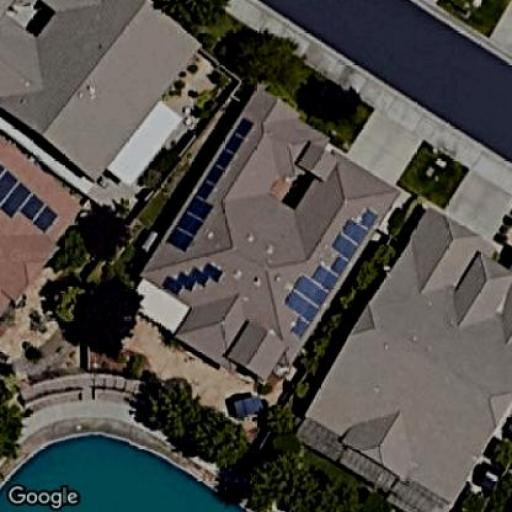solar-panel: (280, 208, 380, 335), (165, 116, 256, 250), (0, 168, 59, 236), (163, 257, 226, 297)
